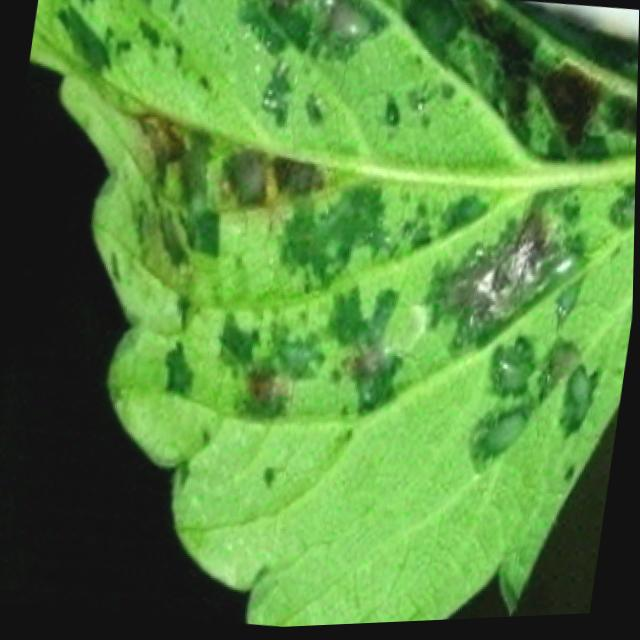Angular Leafspot: (29, 0, 639, 630)
